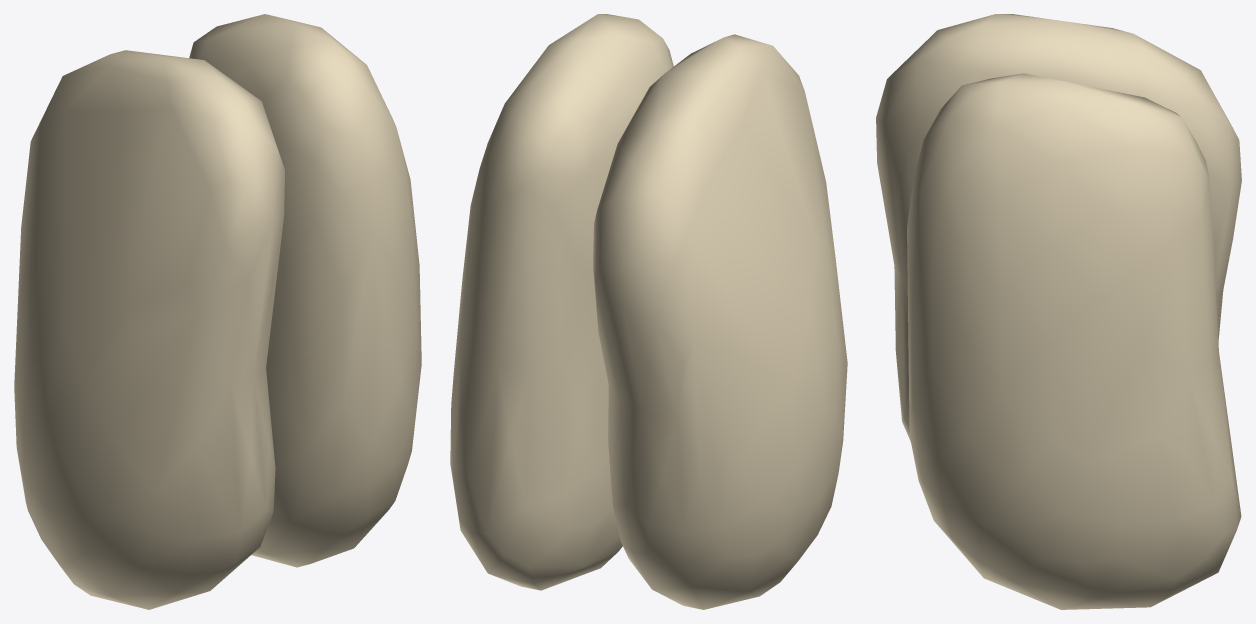
The model's file is esqueleto-middle-cells-of-ethmoid-bone-r.glb.
3 renders of one model, left to right at view 1: azimuth 30°, elevation 25°; view 2: azimuth 150°, elevation 25°; view 3: azimuth 270°, elevation 25°, orthographic. The views are drawn at different scales.
Visible parts, largest first — view 1: Middle cells of ethmoid bone.r; view 2: Middle cells of ethmoid bone.r; view 3: Middle cells of ethmoid bone.r.
Boxes of the visible parts, x1,y1,x2,y2 form: Middle cells of ethmoid bone.r: (14, 14, 421, 609); Middle cells of ethmoid bone.r: (450, 14, 847, 609); Middle cells of ethmoid bone.r: (876, 14, 1241, 609).
Bounding box in the file's own units: 0.00904 × 0.0133 × 0.00837.
